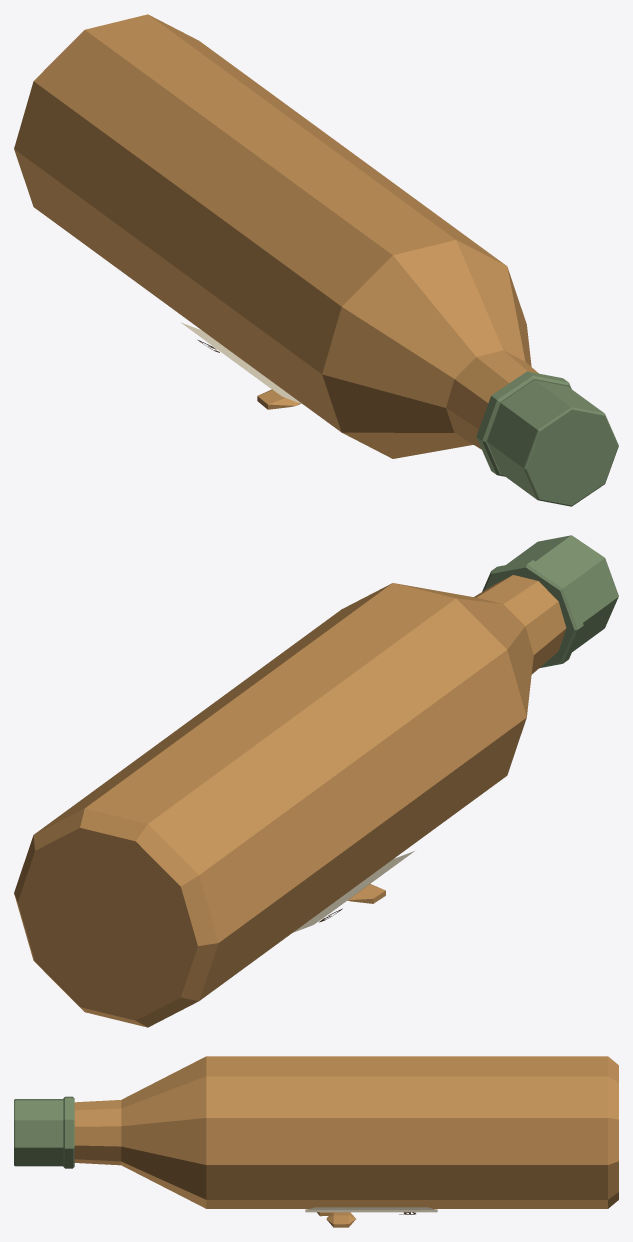
File: ginger_ale.glb
3 views of the same model, one above another, from view 1: azimuth 30°, elevation 25°; view 2: azimuth 150°, elevation 25°; view 3: azimuth 270°, elevation 25° (orthographic). The views are drawn at different scales.
Visible parts, largest first — view 1: ginger_ale; view 2: ginger_ale; view 3: ginger_ale.
Part boxes in pixels (x1,y1,x2,y2): ginger_ale: (14, 14, 618, 506); ginger_ale: (14, 535, 618, 1027); ginger_ale: (14, 1056, 618, 1227).
Bounding box in the file's own units: 0.056 × 0.058 × 0.22.
